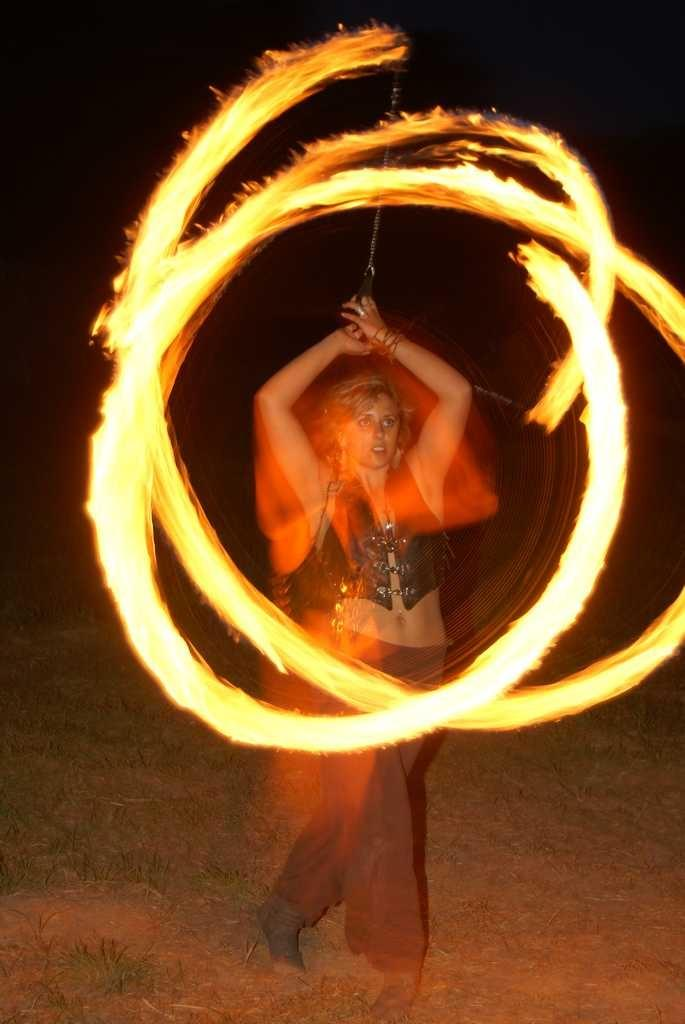fire: (110, 292, 172, 460), (588, 328, 625, 522), (90, 528, 150, 575), (412, 688, 470, 728), (522, 618, 560, 650), (142, 625, 172, 665)
